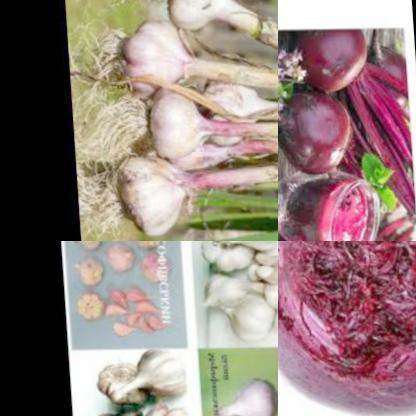beet: (278, 241, 416, 367), (278, 93, 353, 171), (287, 26, 370, 96)
garlic: (106, 150, 218, 241), (109, 12, 202, 102), (196, 65, 278, 167), (195, 241, 278, 337), (138, 88, 231, 165), (74, 357, 191, 416), (94, 285, 166, 344), (156, 0, 254, 40), (216, 377, 277, 416), (134, 250, 172, 290), (102, 241, 138, 275), (71, 255, 107, 287), (73, 295, 99, 318), (128, 241, 168, 253), (71, 241, 105, 254)
